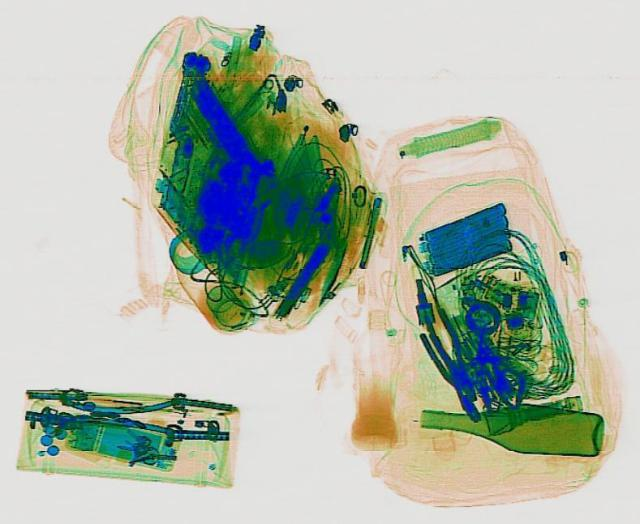Pliers: (416, 302, 486, 401)
